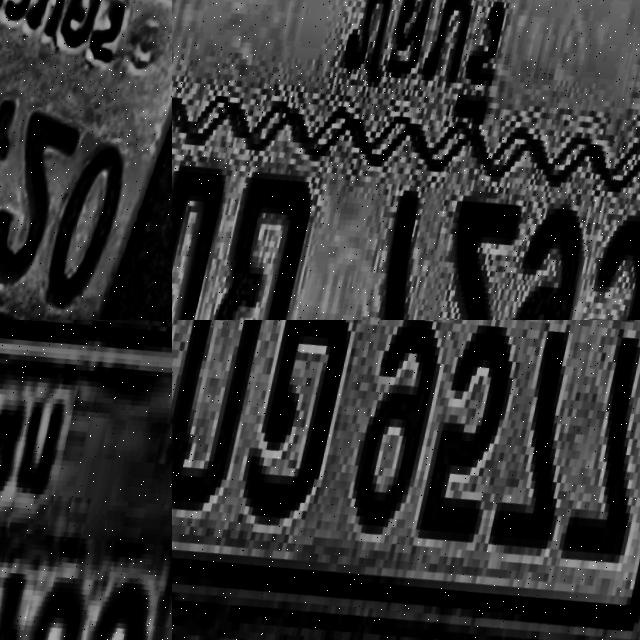license-plate: (172, 0, 640, 320), (172, 320, 640, 640), (0, 0, 172, 320), (0, 320, 172, 640)
